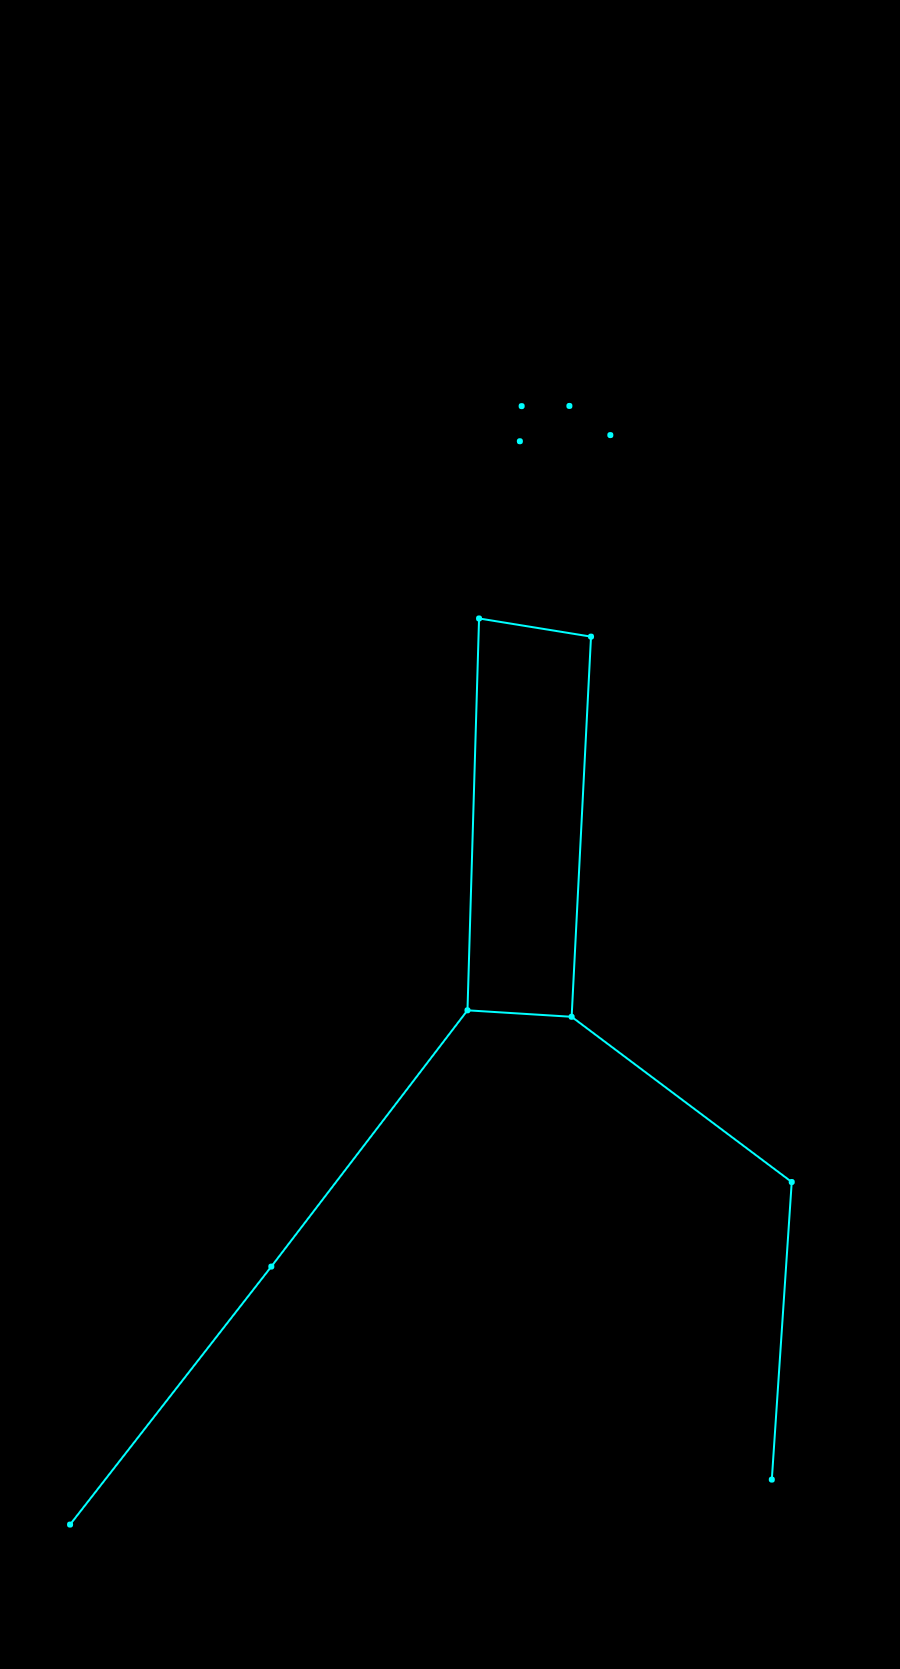warrior_1: (59, 381, 830, 1542)
